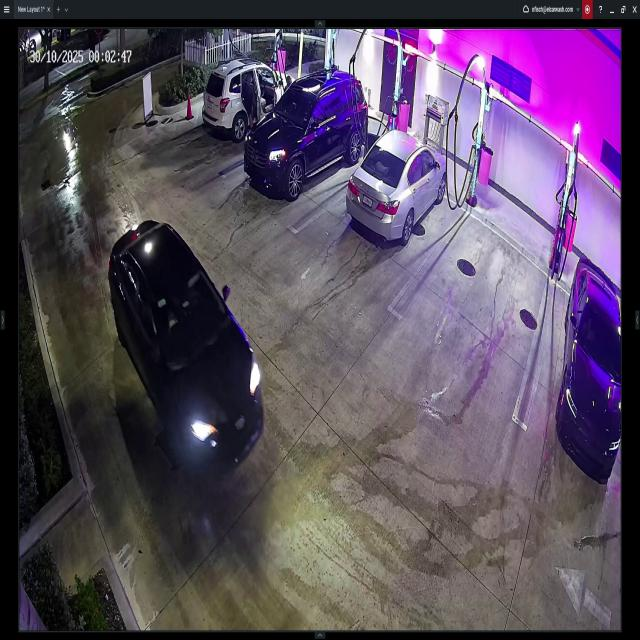Car: (108, 215, 263, 467), (556, 261, 628, 472), (246, 71, 364, 197), (348, 130, 447, 246), (199, 61, 295, 139)
